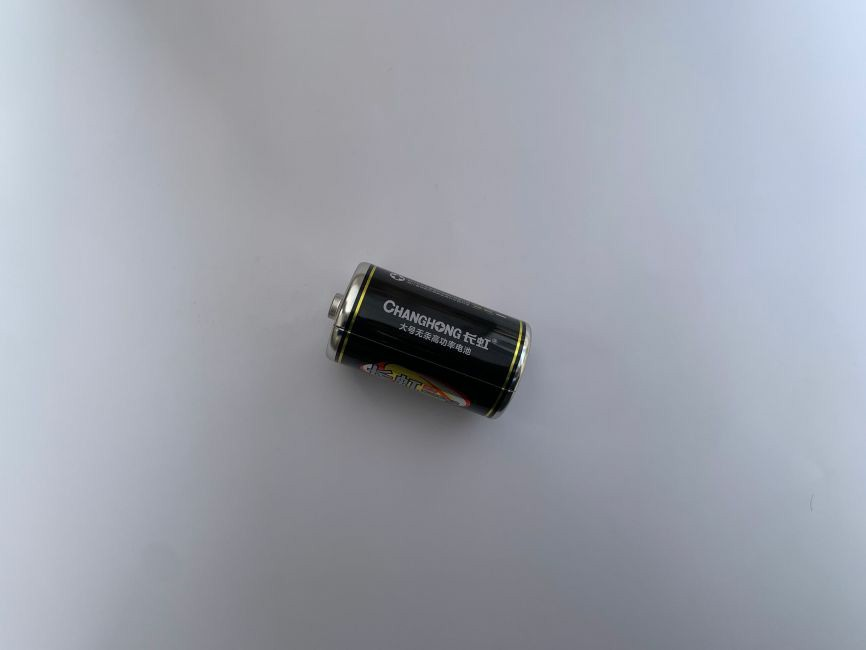charge: (323, 261, 537, 424)
